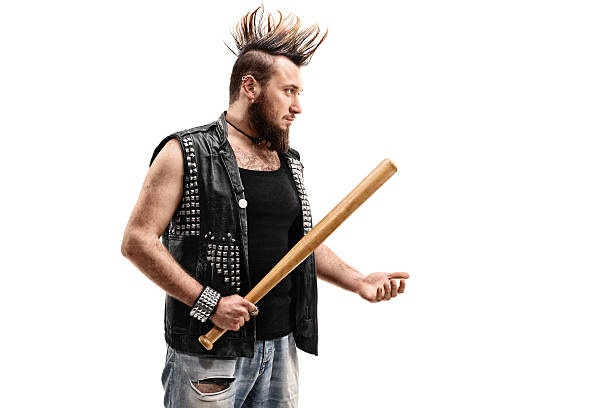bita: (202, 155, 396, 350)
